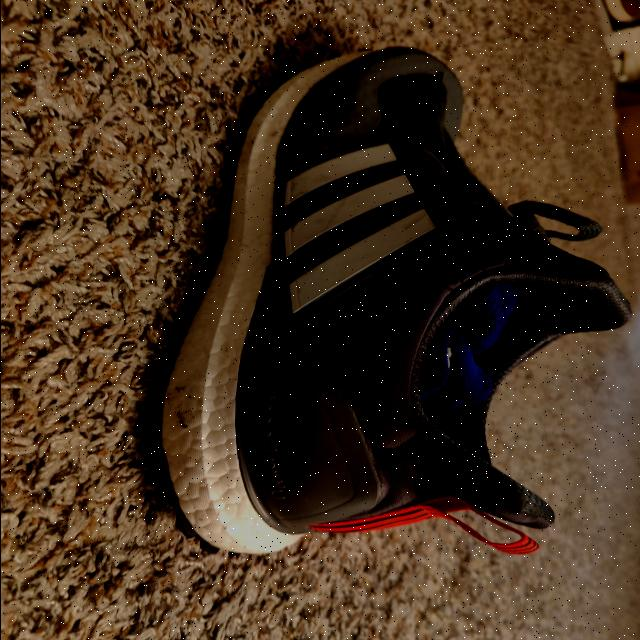black shoes: (211, 56, 549, 548)
